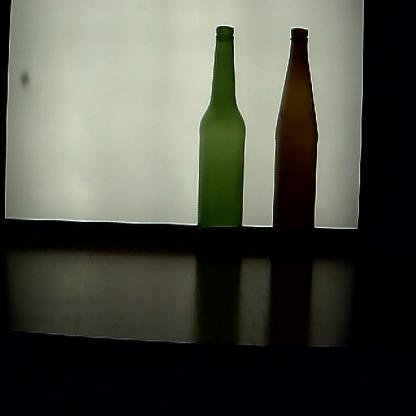Can: (268, 21, 321, 263), (201, 26, 248, 255)
